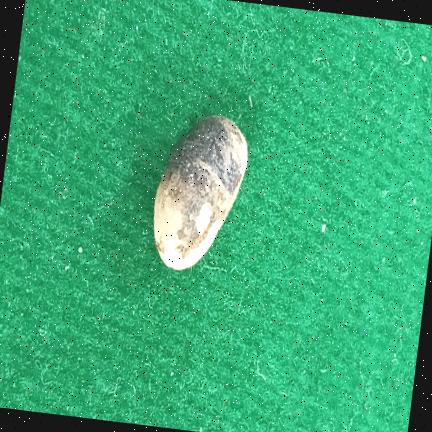partial-black: (153, 115, 247, 269)
